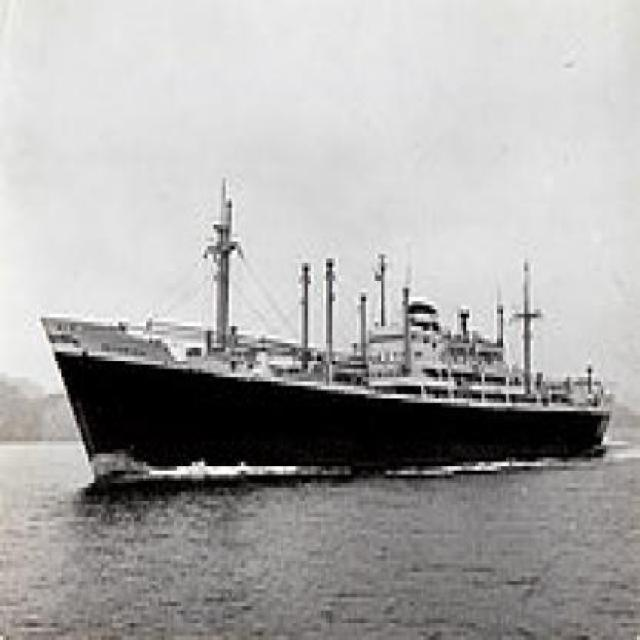container: (28, 158, 623, 510)
